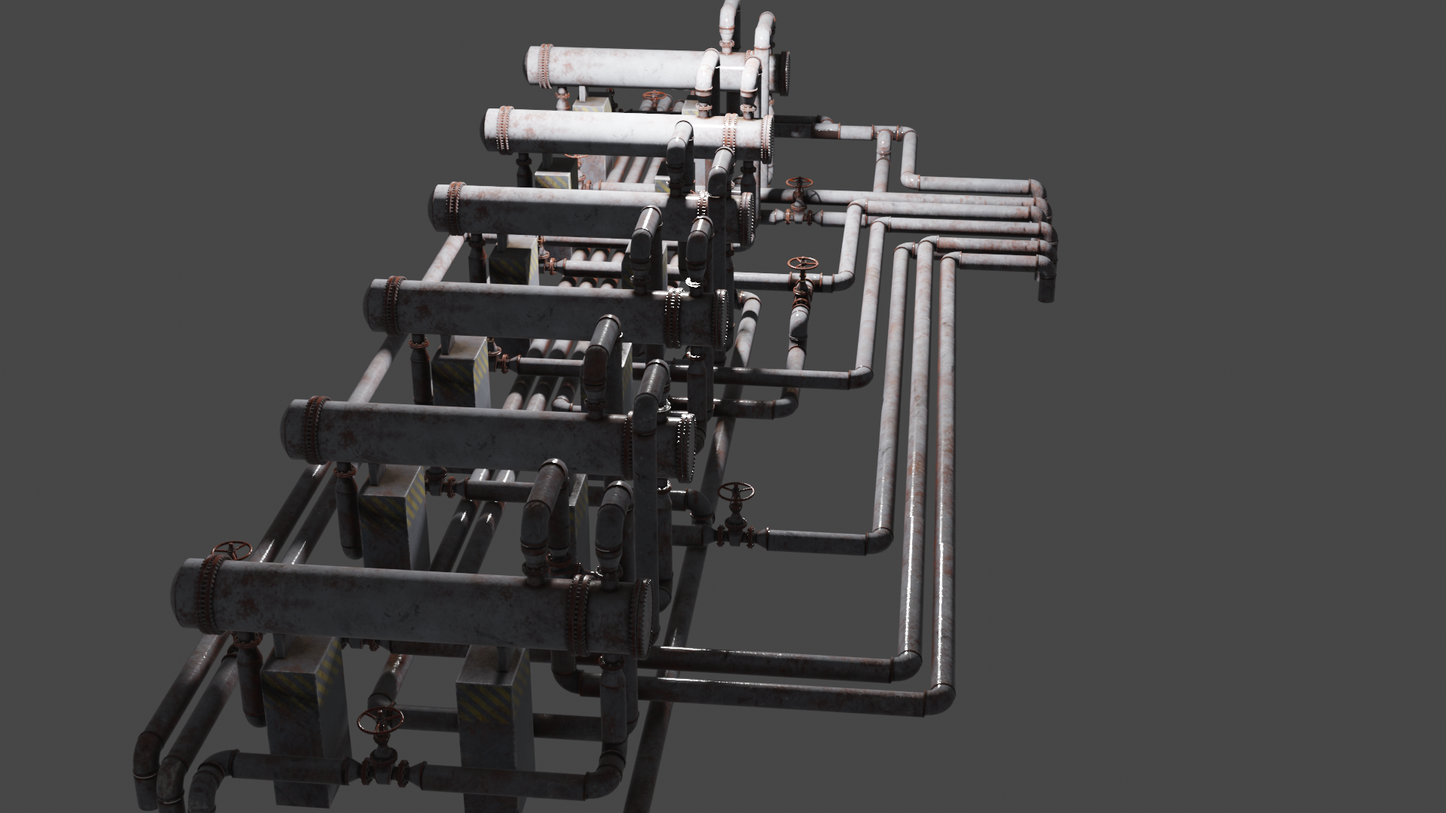HE_1: (165, 556, 653, 649)
HE_2: (275, 398, 695, 479)
HE_3: (360, 272, 731, 345)
HE_4: (426, 176, 754, 241)
HE_5: (471, 102, 775, 162)
HE_6: (521, 40, 787, 96)
